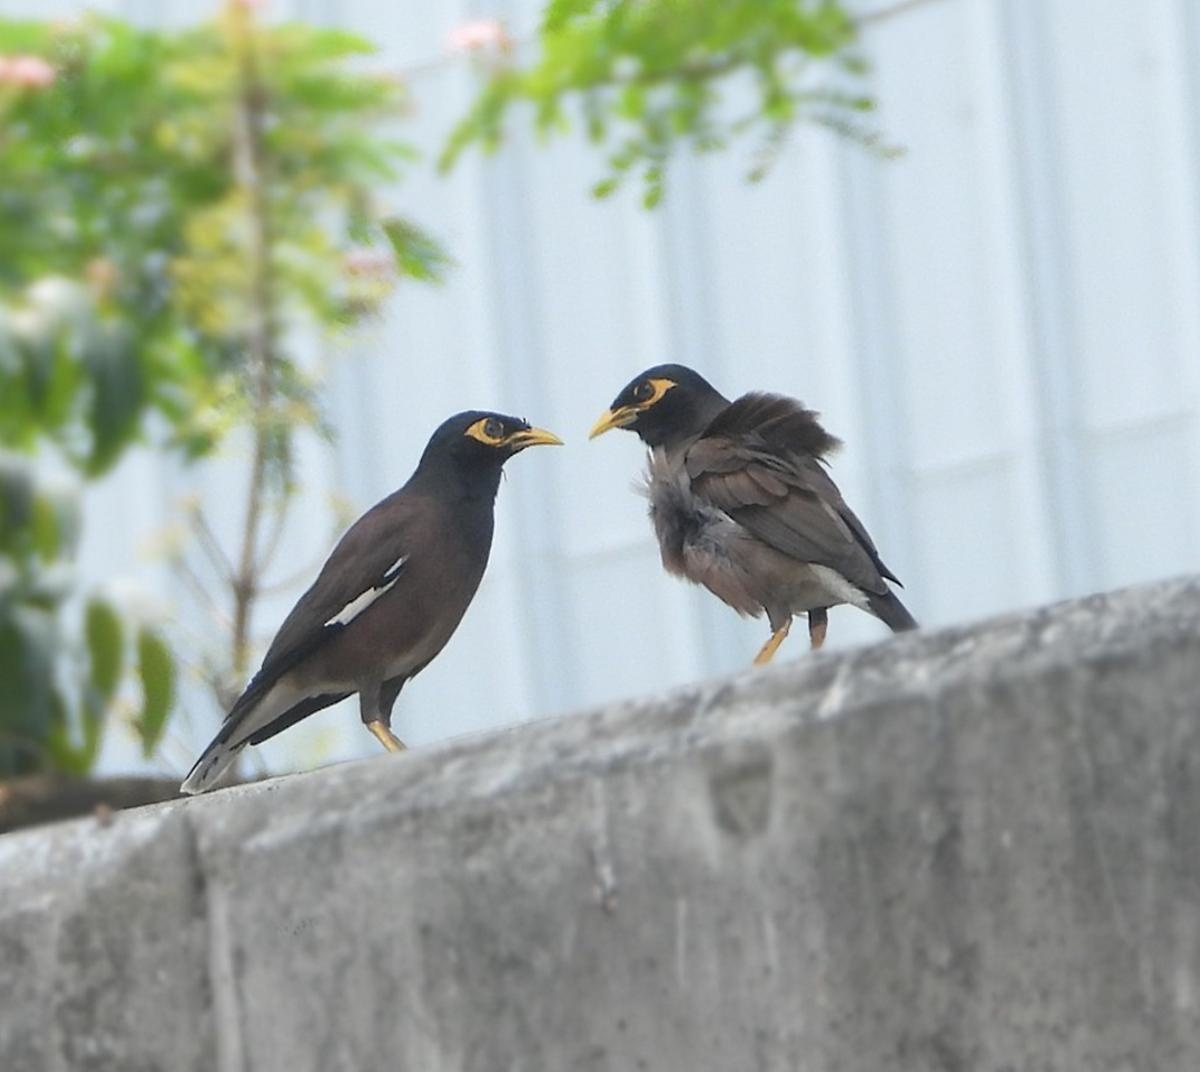myna: (154, 398, 563, 863), (592, 352, 926, 656)
